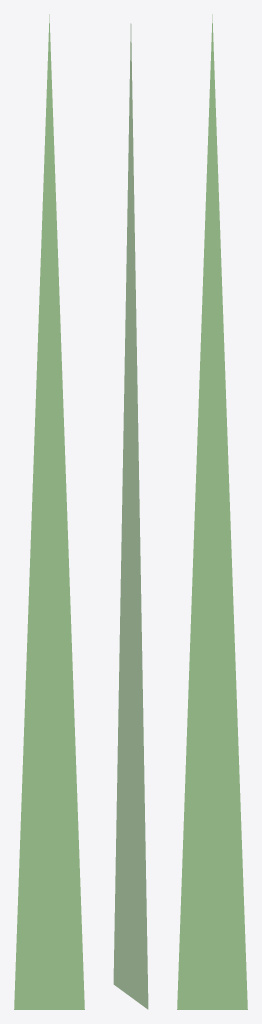
File: grass.glb
3 views of the same model, side by side, from view 1: azimuth 90°, elevation 25°; view 2: azimuth 210°, elevation 25°; view 3: azimuth 270°, elevation 25° (orthographic).
Visible parts, largest first — view 1: Plane; view 2: Plane; view 3: Plane.
Part boxes in pixels (x1,y1,x2,y2): Plane: (14,14,84,1009); Plane: (113,24,148,1009); Plane: (177,14,247,1009).
Bounding box in the file's own units: 0 × 1.31 × 0.0845.
